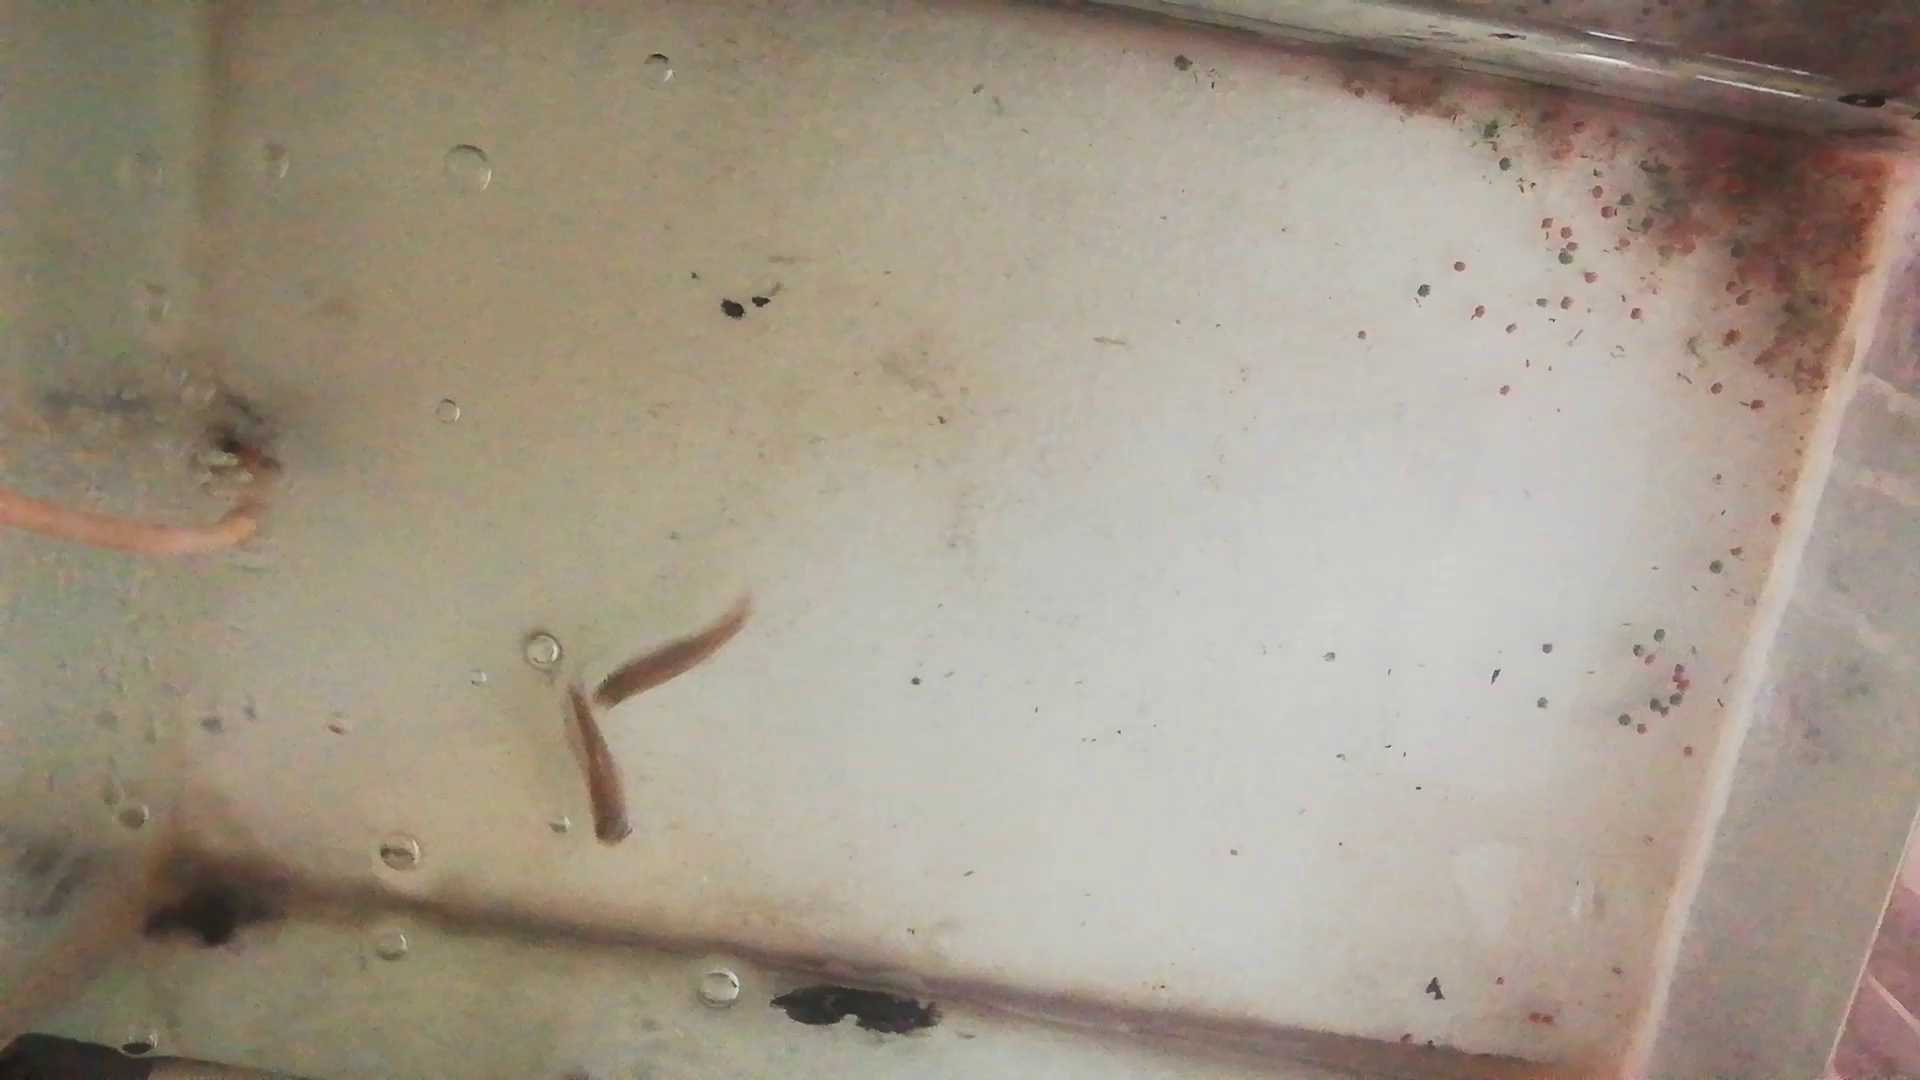fish: (589, 601, 750, 709), (568, 686, 633, 847)
